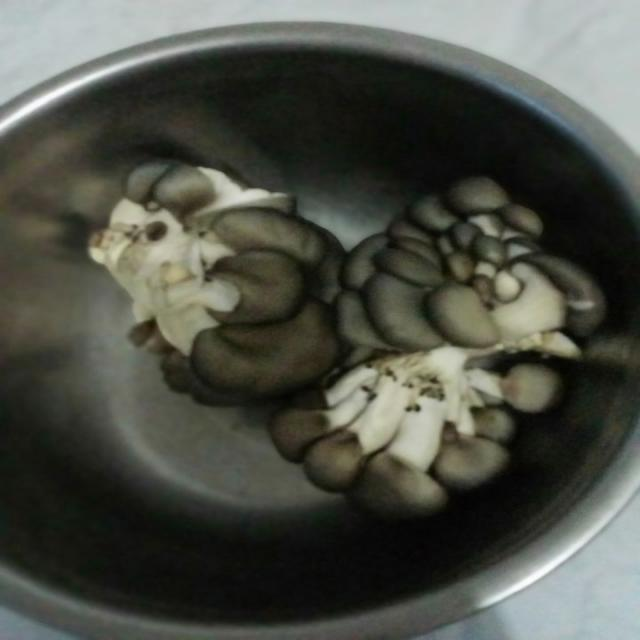Pleurotus ostreatus: (88, 163, 344, 403), (273, 345, 566, 511), (338, 179, 598, 355)
